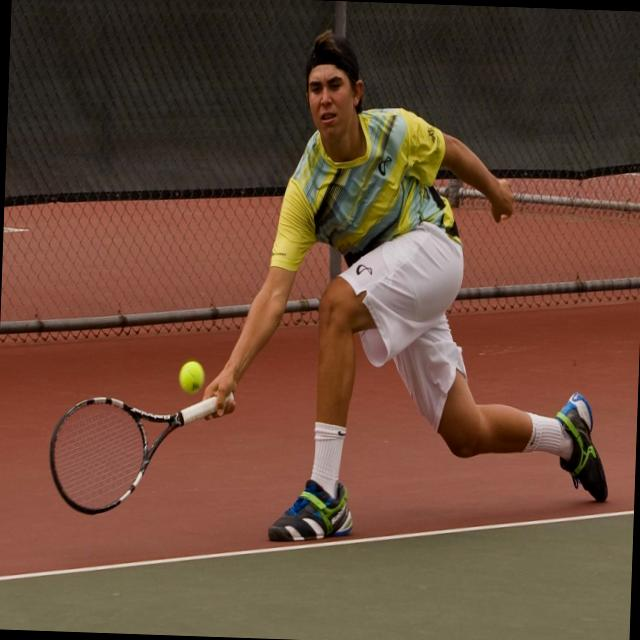Tennis Ball: (178, 359, 204, 394)
